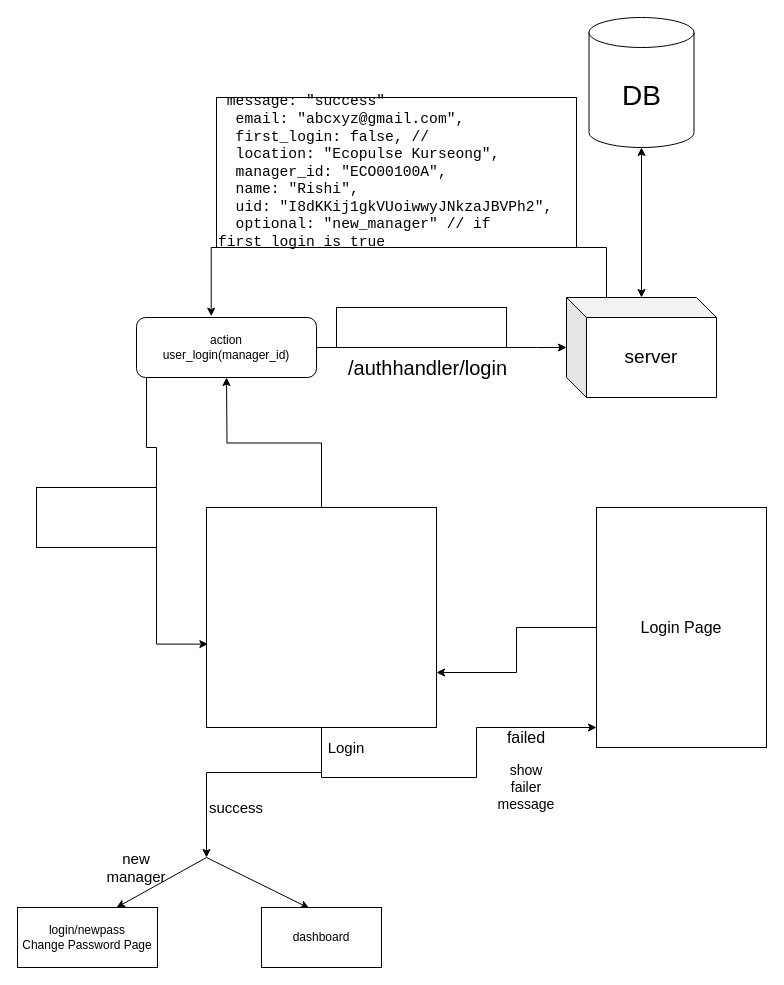
Image size: 784x985. Some labels were removed from this diagram. Each missing label, with the centre of its shape:
data from server: the point at 96,517
startLogin() if message is success loginwithemailandpassword: the point at 321,617
username: "MANAGER_ID: the point at 421,327
